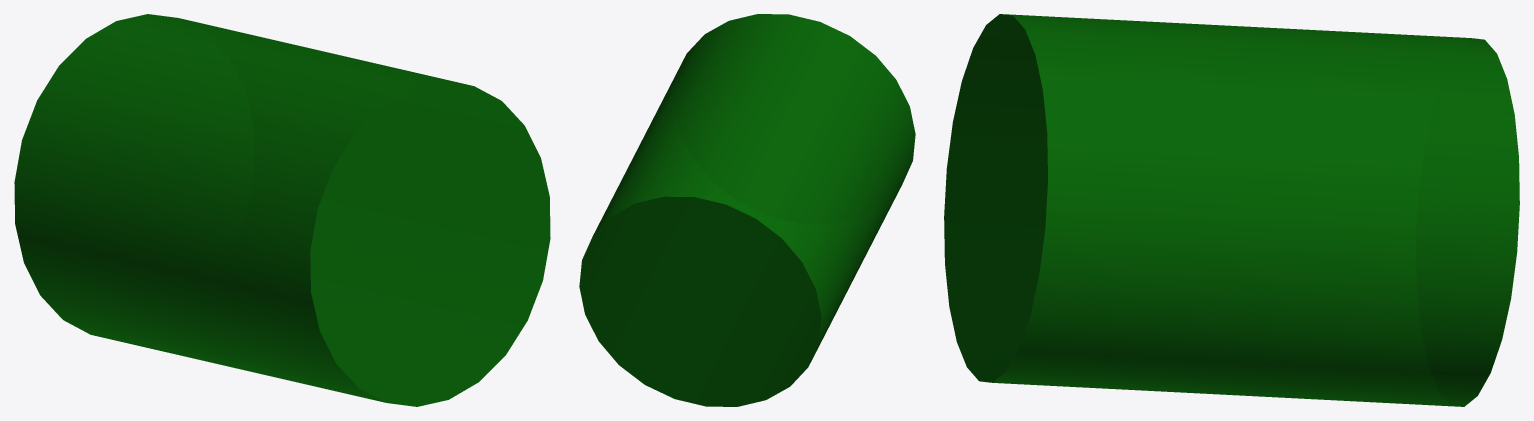
File: Event_192787598_jet_2.fbx
3 renders of one model, left to right at view 1: azimuth 30°, elevation 25°; view 2: azimuth 150°, elevation 25°; view 3: azimuth 270°, elevation 25°, orthographic. The views are drawn at different scales.
Parts seen in each view (by area): view 1: Model; view 2: Model; view 3: Model.
Part boxes in pixels (x1,y1,x2,y2): Model: (14, 14, 550, 406); Model: (579, 14, 915, 406); Model: (944, 14, 1519, 406).
Size of the model in its own units: 0.0511 by 0.048 by 0.0621.
